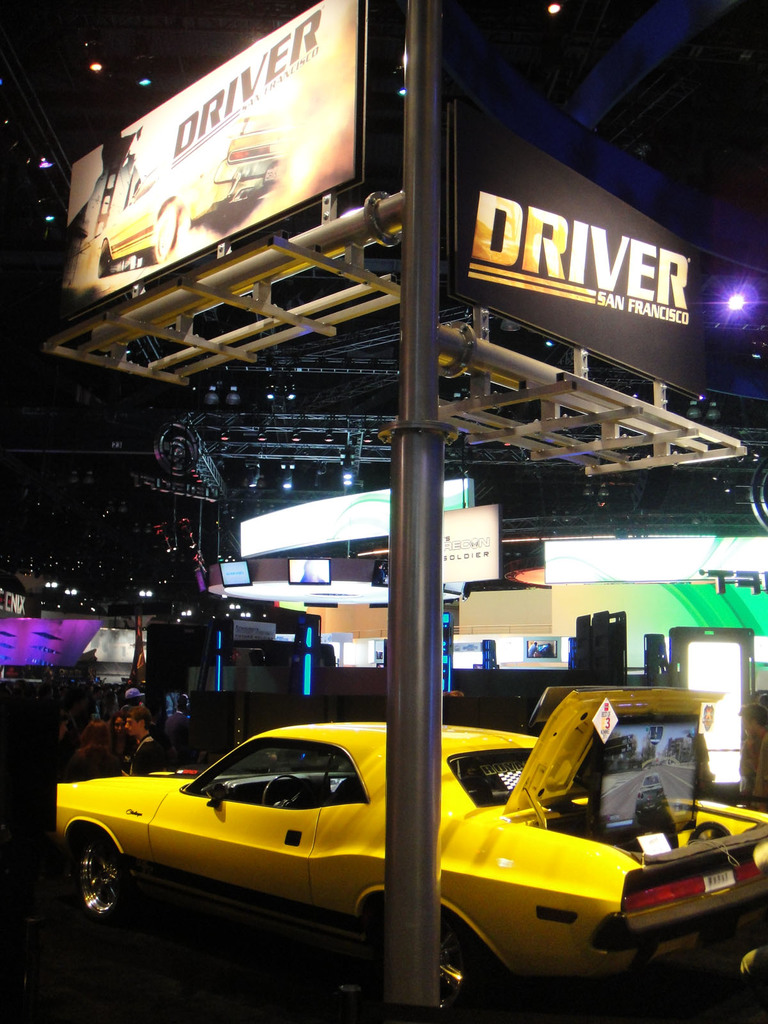cars: (53, 683, 767, 1023)
